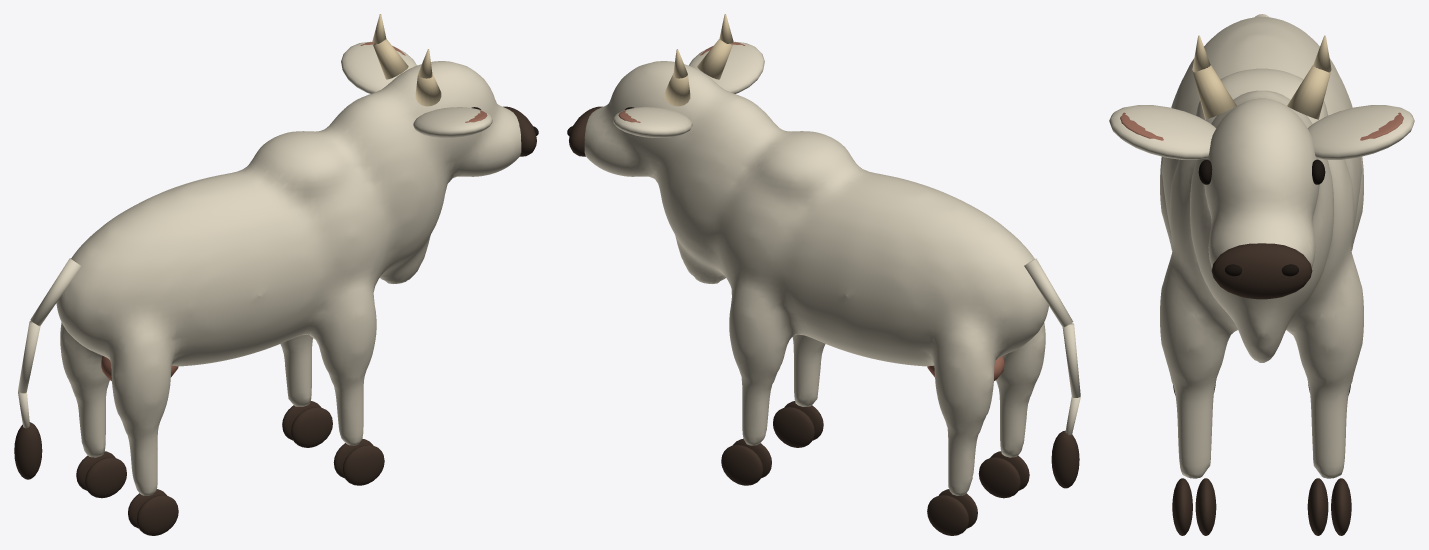
The model's file is adult-cow.glb.
3 views of the same model, side by side, from view 1: azimuth 30°, elevation 25°; view 2: azimuth 150°, elevation 25°; view 3: azimuth 270°, elevation 25° (orthographic). The views are drawn at different scales.
Parts seen in each view (by area): view 1: Adult cow - Cream body.001, Adult cow - Cream Ear.002, Adult cow - Cream Ear.003, Adult cow - Cream Cloven hoof.012, Adult cow - Cream Cloven hoof.010, Adult cow - Cream Cloven hoof.008, Adult cow - Cream Cloven hoof.014, Adult cow - Cream Tail tuft.001, Adult cow - Cream Tail.003, Adult cow - Cream Horn base.003, Adult cow - Cream Tail.004, Adult cow - Cream Horn base.002 (+1 smaller); view 2: Adult cow - Cream body.001, Adult cow - Cream Ear.003, Adult cow - Cream Ear.002, Adult cow - Cream Cloven hoof.009, Adult cow - Cream Cloven hoof.011, Adult cow - Cream Cloven hoof.013, Adult cow - Cream Cloven hoof.015, Adult cow - Cream Tail tuft.001, Adult cow - Cream Tail.003, Adult cow - Cream Tail.004, Adult cow - Cream Horn base.002, Adult cow - Cream Horn base.003 (+1 smaller); view 3: Adult cow - Cream body.001, Adult cow - Cream Nose.001, Adult cow - Cream Ear.002, Adult cow - Cream Ear.003, Adult cow - Cream Horn base.002, Adult cow - Cream Horn base.003, Adult cow - Cream Cloven hoof.010, Adult cow - Cream Cloven hoof.015, Adult cow - Cream Cloven hoof.011, Adult cow - Cream Cloven hoof.014, Adult cow - Cream Horn tip.002, Adult cow - Cream Horn tip.003 (+2 smaller).
Part boxes in pixels (x1,y1,x2,y2): Adult cow - Cream body.001: (56, 61, 521, 495); Adult cow - Cream Ear.002: (413, 107, 492, 137); Adult cow - Cream Ear.003: (341, 41, 416, 93); Adult cow - Cream Cloven hoof.012: (85, 457, 126, 498); Adult cow - Cream Cloven hoof.010: (342, 445, 384, 485); Adult cow - Cream Cloven hoof.008: (136, 495, 178, 535); Adult cow - Cream Cloven hoof.014: (291, 407, 332, 447); Adult cow - Cream Tail tuft.001: (14, 422, 42, 479); Adult cow - Cream Tail.003: (30, 258, 81, 325); Adult cow - Cream Horn base.003: (373, 39, 408, 79); Adult cow - Cream Tail.004: (18, 321, 40, 393); Adult cow - Cream Horn base.002: (415, 73, 441, 106); Adult cow - Cream body.001: (584, 61, 1048, 495); Adult cow - Cream Ear.003: (613, 107, 692, 137); Adult cow - Cream Ear.002: (689, 41, 764, 93); Adult cow - Cream Cloven hoof.009: (978, 457, 1020, 498); Adult cow - Cream Cloven hoof.011: (773, 407, 814, 447); Adult cow - Cream Cloven hoof.013: (927, 495, 968, 535); Adult cow - Cream Cloven hoof.015: (721, 445, 763, 485); Adult cow - Cream Tail tuft.001: (1051, 430, 1079, 488); Adult cow - Cream Tail.003: (1024, 258, 1073, 327); Adult cow - Cream Tail.004: (1062, 323, 1080, 397); Adult cow - Cream Horn base.002: (697, 39, 732, 79); Adult cow - Cream Horn base.003: (664, 73, 690, 106); Adult cow - Cream body.001: (1160, 16, 1363, 478); Adult cow - Cream Nose.001: (1211, 243, 1312, 299); Adult cow - Cream Ear.002: (1109, 105, 1216, 159); Adult cow - Cream Ear.003: (1307, 105, 1414, 159); Adult cow - Cream Horn base.002: (1193, 65, 1236, 119); Adult cow - Cream Horn base.003: (1287, 65, 1330, 119); Adult cow - Cream Cloven hoof.010: (1172, 478, 1192, 535); Adult cow - Cream Cloven hoof.015: (1331, 478, 1351, 535); Adult cow - Cream Cloven hoof.011: (1195, 478, 1216, 535); Adult cow - Cream Cloven hoof.014: (1307, 478, 1328, 535); Adult cow - Cream Horn tip.002: (1192, 35, 1210, 72); Adult cow - Cream Horn tip.003: (1313, 35, 1331, 72).
Size of the model in its own units: 2.43 by 1.9 by 0.9708.
